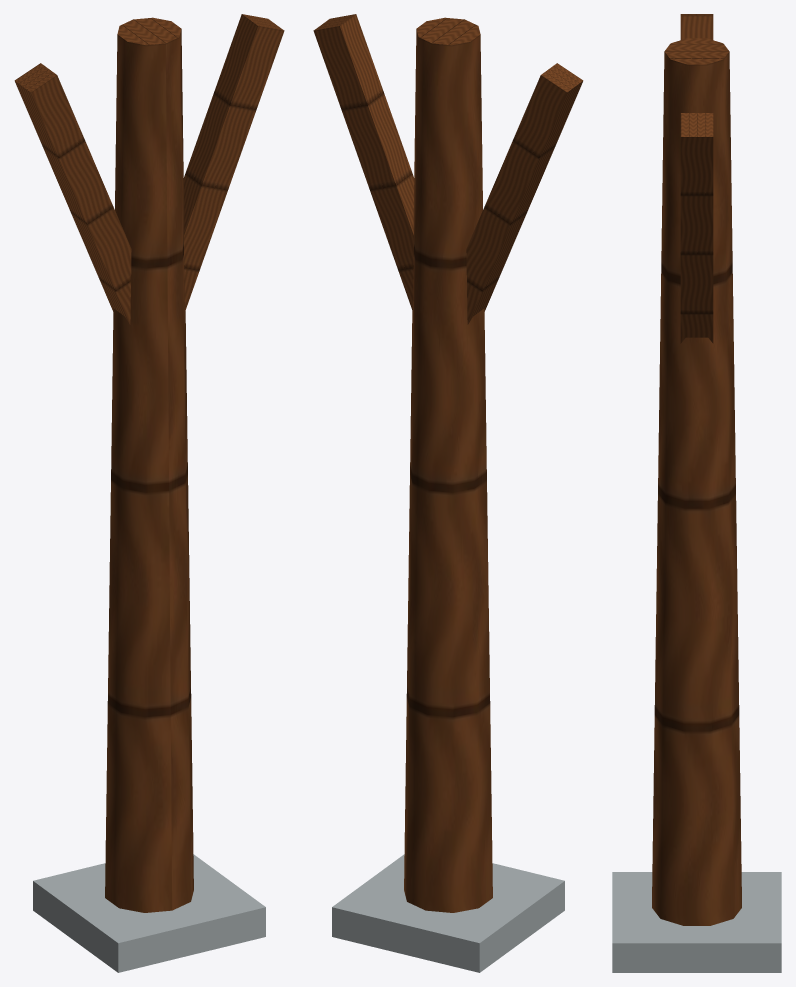
The model's file is modular-survival-base-builder-forked-post-422559ec__24216.glb.
The picture shows the model from 3 angles, left to right: view 1: azimuth 30°, elevation 25°; view 2: azimuth 150°, elevation 25°; view 3: azimuth 270°, elevation 25°; orthographic projection.
Parts seen in each view (by area): view 1: forked-post; view 2: forked-post; view 3: forked-post.
Boxes of the visible parts, <box> form: forked-post: <box>14,14,284,972</box>; forked-post: <box>313,14,583,972</box>; forked-post: <box>612,14,781,972</box>.
Bounding box in the file's own units: 0.7141 × 2.4 × 0.416.
2 materials, 1 textured.
